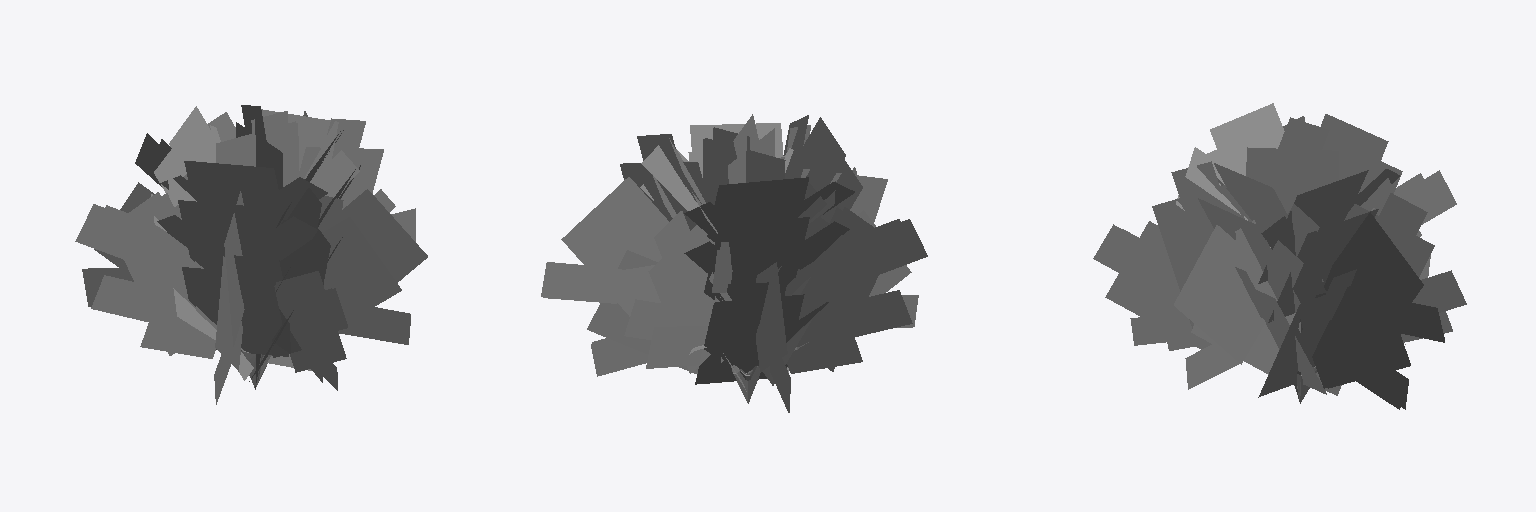
Rendered from Brown_Bush.obj.
3 views of the same model, side by side, from view 1: azimuth 30°, elevation 25°; view 2: azimuth 150°, elevation 25°; view 3: azimuth 270°, elevation 25° (orthographic).
Parts seen in each view (by area): view 1: Foliage_Bush_Brown_LOD0, Foliage_Bush_Brown_LOD1; view 2: Foliage_Bush_Brown_LOD0, Foliage_Bush_Brown_LOD1; view 3: Foliage_Bush_Brown_LOD0, Foliage_Bush_Brown_LOD1.
Part boxes in pixels (x1,y1,x2,y2): Foliage_Bush_Brown_LOD0: (83,105,415,404); Foliage_Bush_Brown_LOD1: (75,106,427,398); Foliage_Bush_Brown_LOD0: (543,114,912,412); Foliage_Bush_Brown_LOD1: (541,117,927,412); Foliage_Bush_Brown_LOD0: (1102,116,1466,409); Foliage_Bush_Brown_LOD1: (1093,103,1463,409).
Bounding box in the file's own units: 259 × 208 × 245.